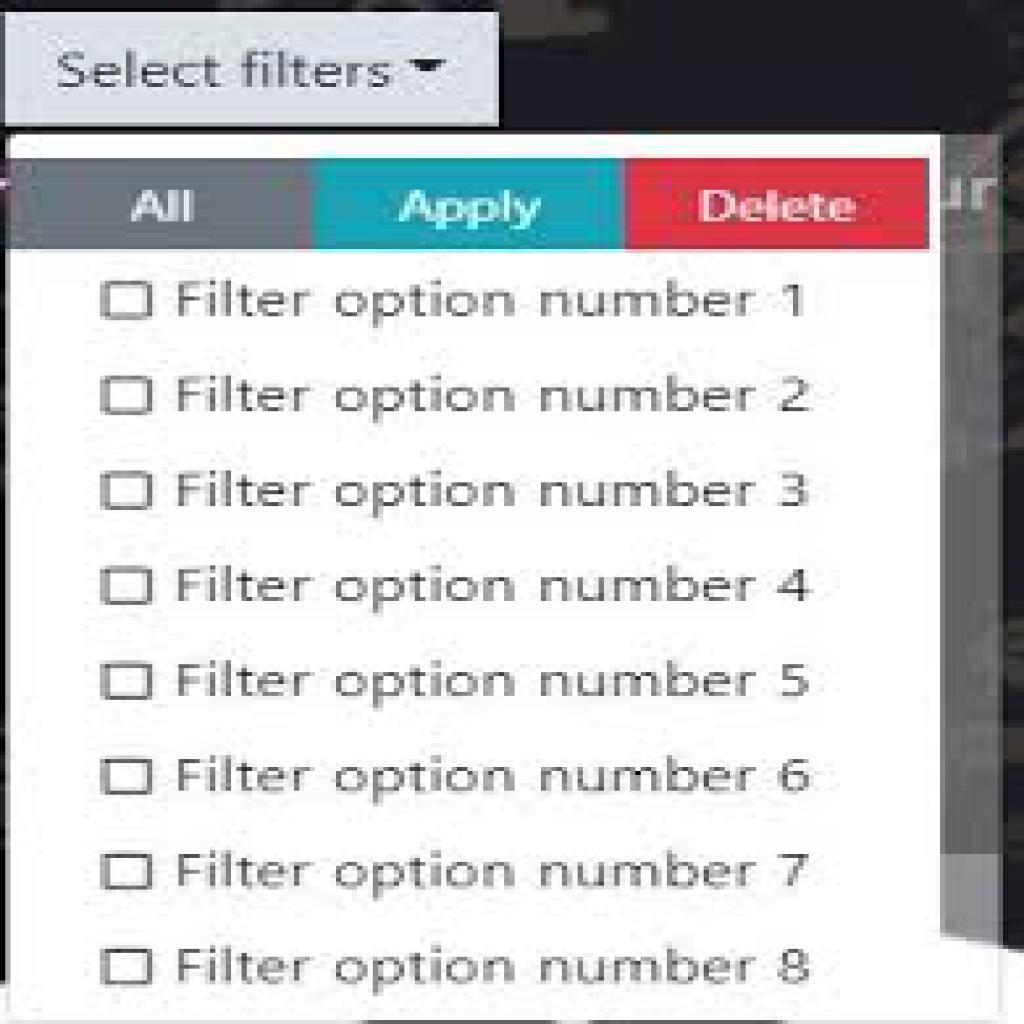button: (10, 158, 315, 249), (315, 162, 626, 249), (629, 161, 930, 248)
checkbox: (104, 470, 155, 514), (103, 662, 153, 702), (102, 854, 155, 891), (104, 281, 155, 319), (102, 948, 153, 986), (102, 375, 149, 414), (105, 759, 154, 796), (105, 568, 151, 604)
dropdown: (1, 16, 500, 131)
